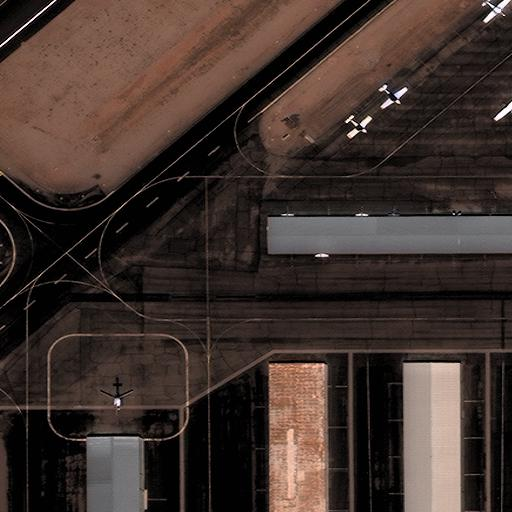Small Civil Transport: (381, 85, 409, 109), (482, 0, 511, 23), (348, 117, 373, 139), (492, 97, 511, 120)
